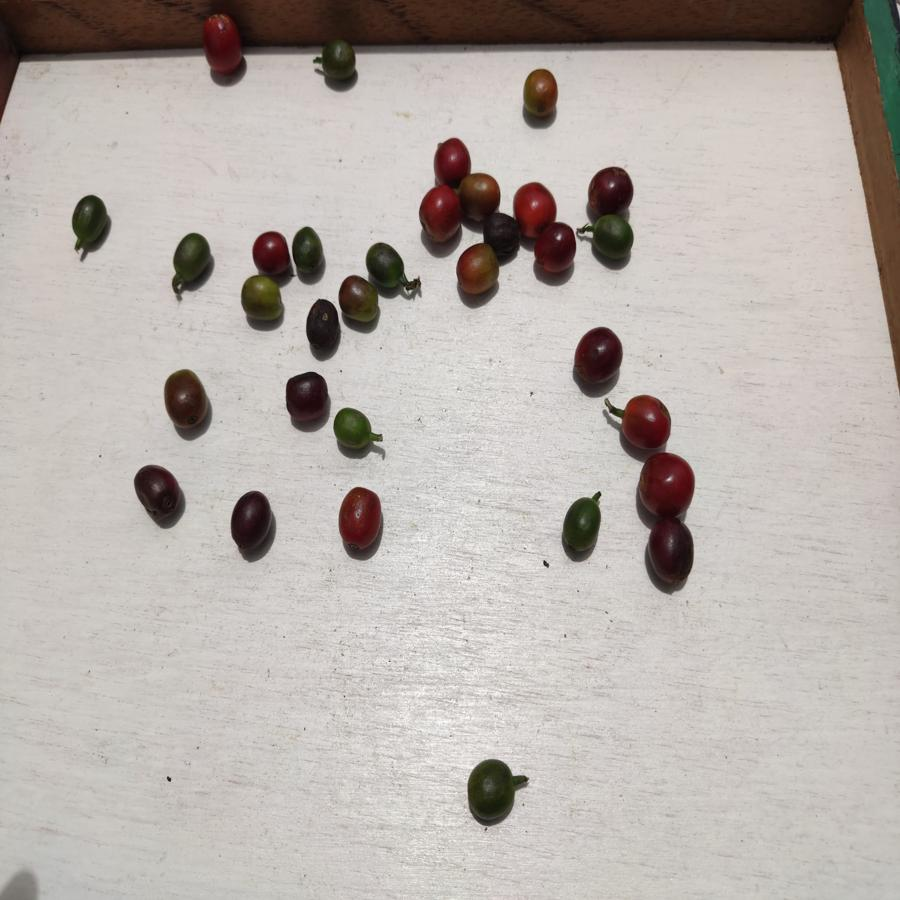Inmaduro: (464, 757, 517, 823), (559, 496, 601, 555), (69, 194, 109, 247), (591, 215, 637, 261), (332, 404, 374, 450), (171, 233, 211, 281), (290, 224, 326, 275), (365, 241, 404, 285), (319, 38, 357, 81)
Maduro: (639, 449, 697, 518), (337, 487, 387, 553), (622, 395, 673, 450), (203, 12, 243, 78), (417, 184, 459, 243), (511, 179, 557, 222), (431, 137, 473, 180)
Pinton: (238, 273, 282, 328), (456, 245, 498, 297), (521, 64, 559, 120), (339, 276, 378, 324), (462, 172, 499, 212)
Sobremaduro: (645, 517, 694, 586), (574, 327, 626, 387), (163, 369, 210, 431), (133, 465, 179, 520), (231, 489, 271, 550), (587, 166, 636, 215), (536, 221, 579, 275), (283, 374, 329, 420), (304, 301, 339, 352), (484, 212, 518, 259), (252, 231, 289, 273)
